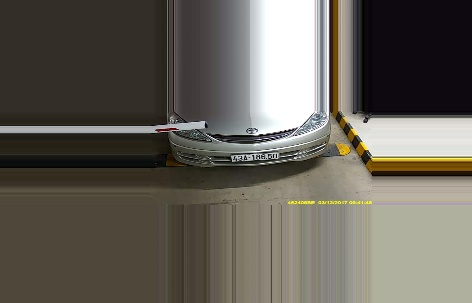plate: (231, 151, 280, 163)
